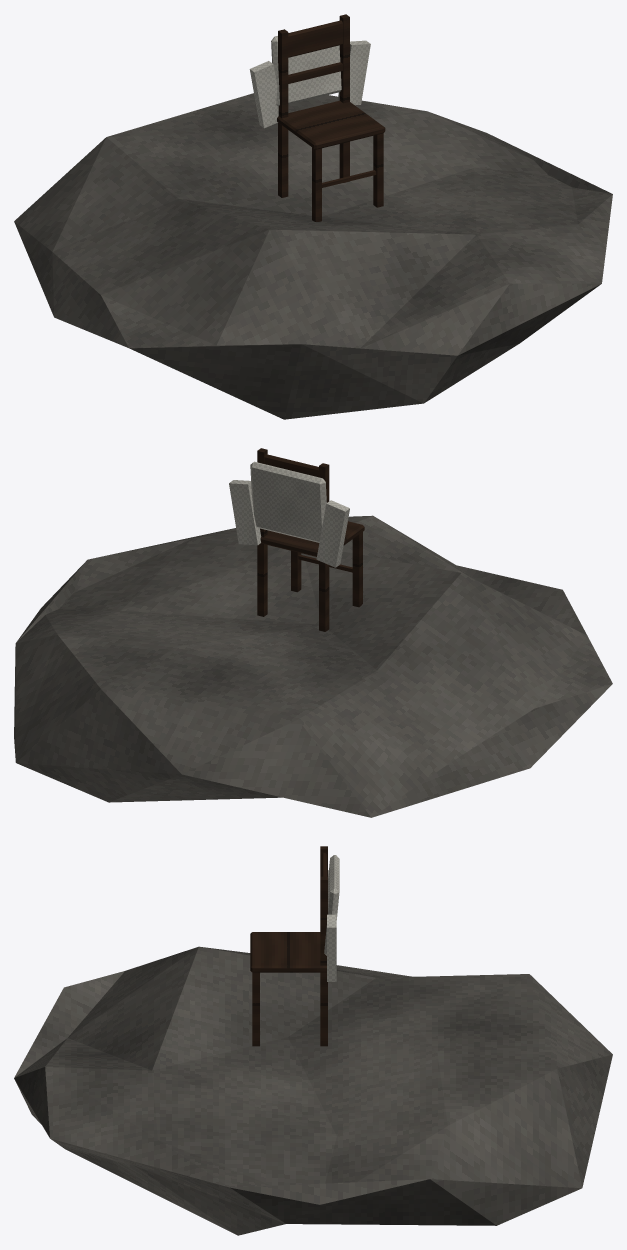
Rendered from lonely_chair.glb.
The picture shows the model from 3 angles, top to bottom: view 1: azimuth 30°, elevation 25°; view 2: azimuth 150°, elevation 25°; view 3: azimuth 270°, elevation 25°; orthographic projection.
Parts seen in each view (by area): view 1: lonely_chair; view 2: lonely_chair; view 3: lonely_chair.
Boxes of the visible parts, x1,y1,x2,y2 form: lonely_chair: (14, 14, 612, 419); lonely_chair: (14, 448, 612, 817); lonely_chair: (14, 846, 612, 1235).
Size of what is drawn, in the model's own units: 3.12 by 1.82 by 3.16.
Materials: 3 (3 with a texture image).
